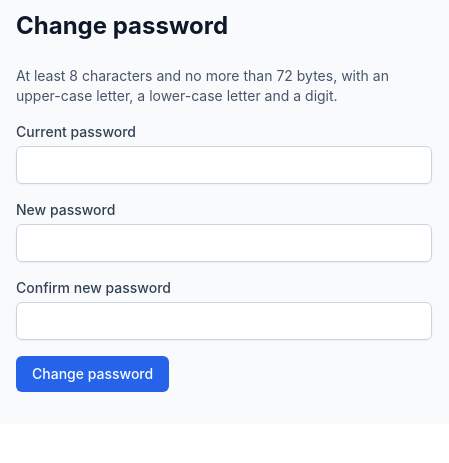
Test case: ChangePasswordPage › asks for the current password when it is empty, without a request
Type "NewPass12" into the password field with test id "new-password-input" at [224, 243], box [16, 224, 432, 262]
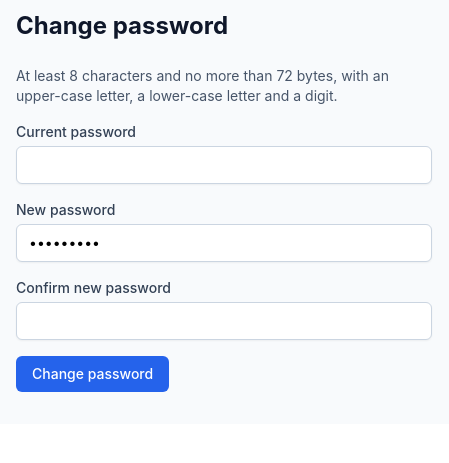
Type "NewPass12" into the password field with test id "confirm-password-input" at [224, 321], box [16, 302, 432, 340]
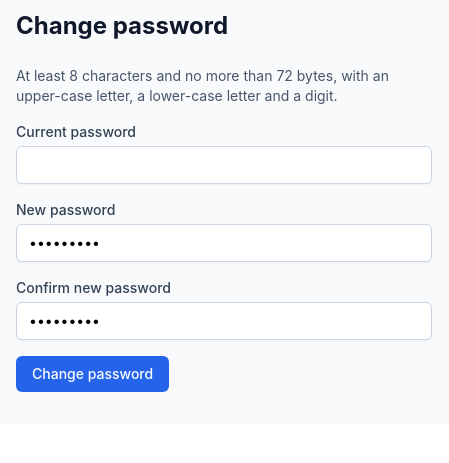
Click the button with test id "change-password-submit" at [93, 374], box [16, 356, 169, 392]
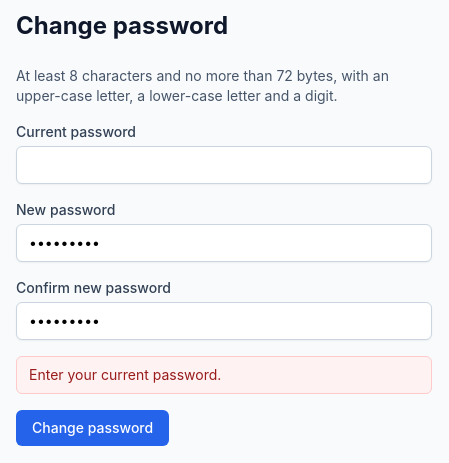
Check: the message with test id "change-password-outcome" reads "Enter your current password.", box [29, 366, 221, 383]
